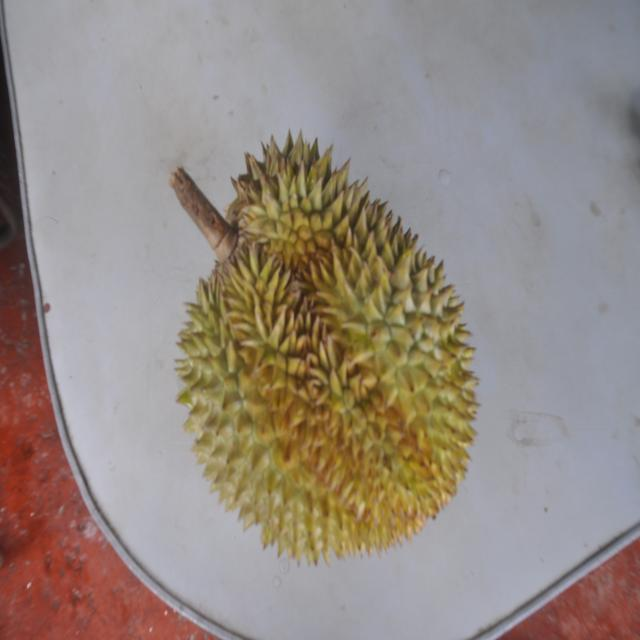mature: (169, 125, 477, 564)
